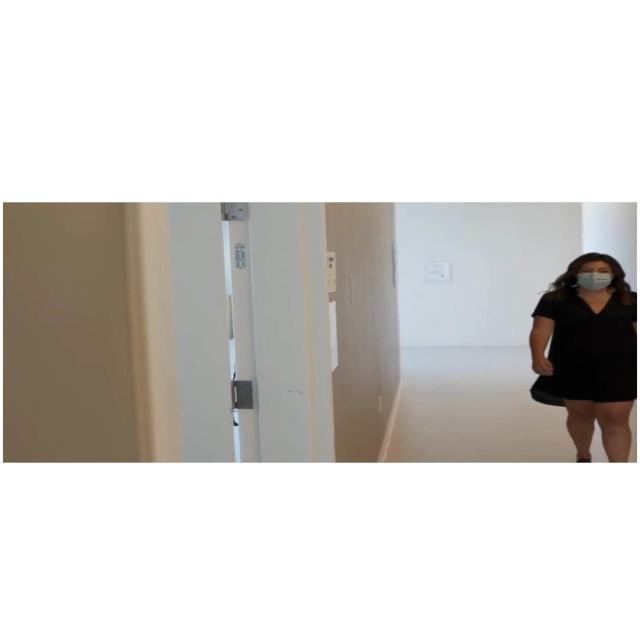Mask: (579, 260, 615, 291)
